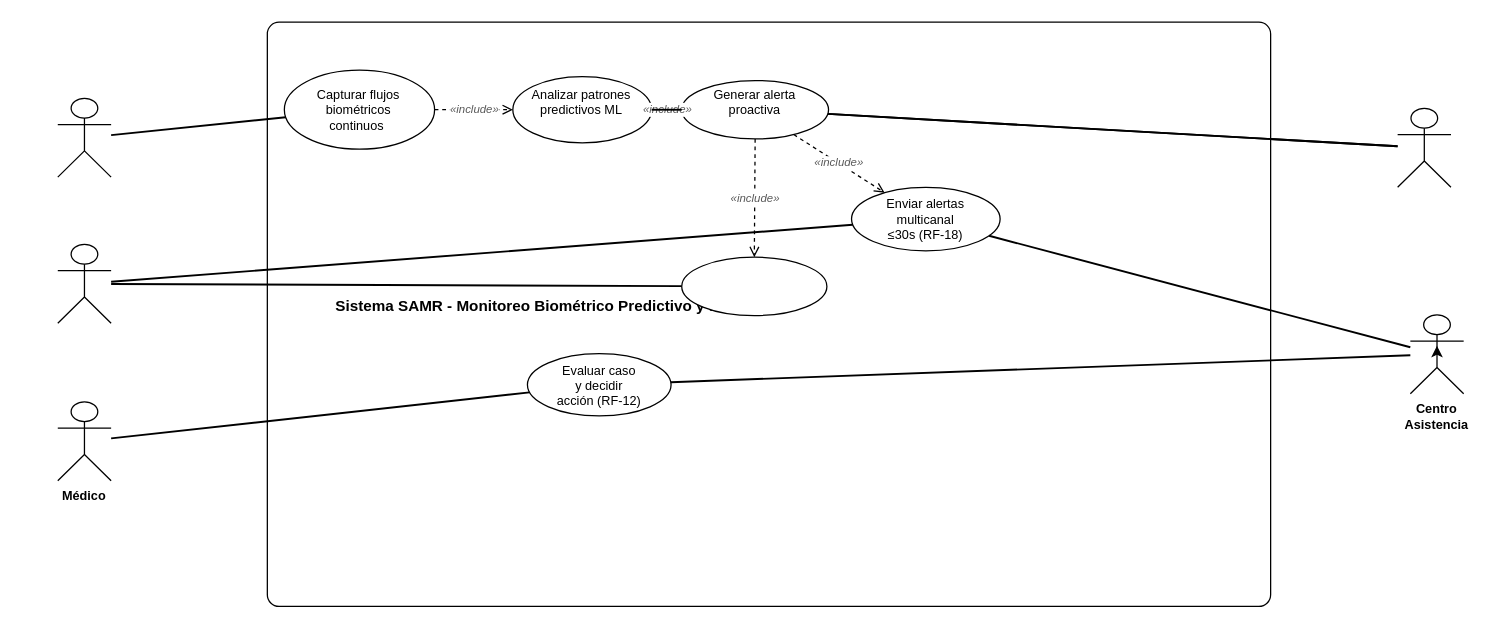
Image size: 1491x629. Some labels were removed from this diagram. The centre of each missing label's shape, as x and y in pixels:
"Dispositivo IoT (EKG/EEG/Oxímetro)" belongs at point 84,137.
"Guiar paciente post-alerta (RF-19)" belongs at point 753,286.
"Modelo ML" belongs at point 1423,147.
"Paciente" belongs at point 84,283.
